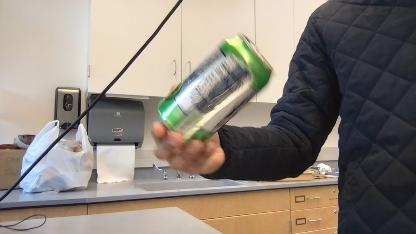Can: (154, 30, 281, 148)
